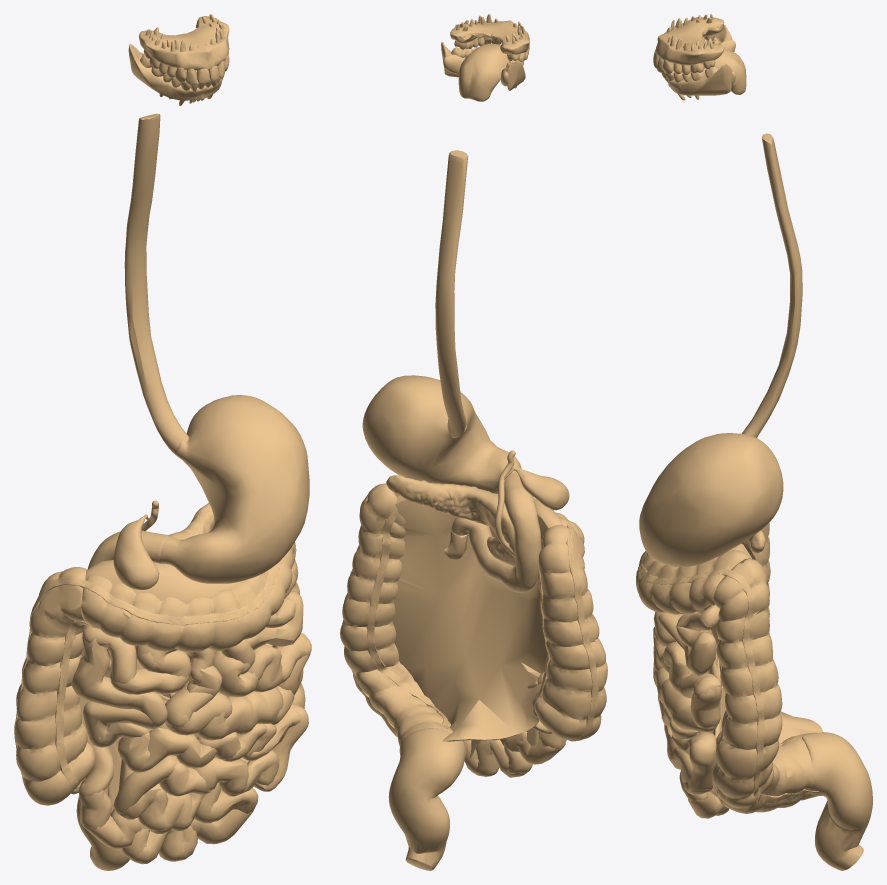
Rendered from digestive.glb.
3 renders of one model, left to right at view 1: azimuth 30°, elevation 25°; view 2: azimuth 150°, elevation 25°; view 3: azimuth 270°, elevation 25°, orthographic. The views are drawn at different scales.
Visible parts, largest first — view 1: stomach, distal_part_of_jejunum (×9), ascending_colon, transverse_colon, proximal_part_of_ileum (×9), esophagus, middle_part_of_ileum (×5), distal_part_of_ileum (×5), gingiva_of_upper_jaw, taenia_omentalis, proximal_part_of_jejunum (×2), middle_part_of_jejunum (×3) (+8 smaller); view 2: transverse_mesocolon, stomach, descending_colon, ascending_colon, rectum, esophagus, duodenum, pancreas, taenia_mesocolica, parenchyma, tongue, taenia_omentalis (+5 smaller); view 3: descending_colon, stomach, rectum, esophagus, transverse_colon, middle_part_of_jejunum (×5), taenia_omentalis, gingiva_of_upper_jaw, proximal_part_of_jejunum, gingiva_of_lower_jaw, proximal_part_of_ileum, transverse_mesocolon (+4 smaller).
Part boxes in pixels (box(x1,y1,x2,y2)): stomach: box(160, 395, 309, 583); distal_part_of_jejunum (×9): box(71, 626, 253, 739); ascending_colon: box(14, 567, 95, 805); transverse_colon: box(81, 543, 294, 652); proximal_part_of_ileum (×9): box(83, 701, 308, 780); esophagus: box(124, 113, 188, 457); middle_part_of_ileum (×5): box(113, 750, 279, 831); distal_part_of_ileum (×5): box(78, 783, 258, 861); gingiva_of_upper_jaw: box(139, 16, 229, 70); taenia_omentalis: box(14, 561, 280, 786); proximal_part_of_jejunum (×2): box(213, 591, 303, 697); middle_part_of_jejunum (×3): box(244, 633, 311, 731); transverse_mesocolon: box(392, 493, 563, 741); stomach: box(362, 375, 521, 493); descending_colon: box(340, 483, 465, 759); ascending_colon: box(535, 525, 607, 740); rectum: box(388, 728, 464, 870); esophagus: box(435, 150, 468, 438); duodenum: box(451, 475, 541, 592); pancreas: box(386, 475, 515, 565); taenia_mesocolica: box(366, 508, 550, 731); parenchyma: box(387, 475, 515, 565); tongue: box(458, 43, 509, 101); taenia_omentalis: box(342, 483, 598, 741); descending_colon: box(711, 559, 814, 813); stomach: box(639, 433, 783, 566); rectum: box(798, 732, 872, 870); esophagus: box(741, 133, 802, 437); transverse_colon: box(636, 550, 750, 614); middle_part_of_jejunum (×5): box(659, 645, 722, 732); taenia_omentalis: box(638, 551, 818, 802); gingiva_of_upper_jaw: box(655, 17, 724, 65); proximal_part_of_jejunum: box(658, 612, 716, 675); gingiva_of_lower_jaw: box(665, 25, 732, 95); proximal_part_of_ileum: box(688, 738, 715, 794); transverse_mesocolon: box(709, 543, 822, 743).
Bounding box in the file's own units: 263 × 783 × 200.
